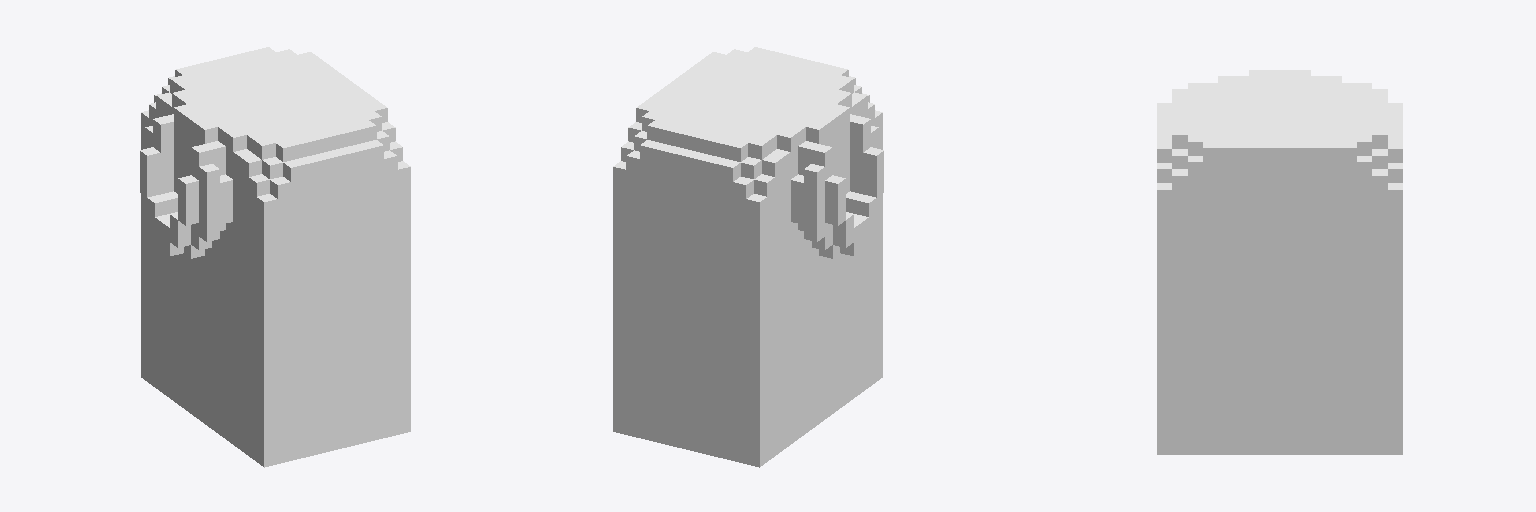
File: maxim-3.obj
3 views of the same model, side by side, from view 1: azimuth 30°, elevation 25°; view 2: azimuth 150°, elevation 25°; view 3: azimuth 270°, elevation 25° (orthographic).
Visible parts, largest first — view 1: object 1; view 2: object 1; view 3: object 1.
Boxes of the visible parts, <box> form: object 1: <box>140,47,410,467</box>; object 1: <box>613,47,883,467</box>; object 1: <box>1157,70,1402,454</box>.
Size of the model in its own units: 1.4 by 2.2 by 1.6.